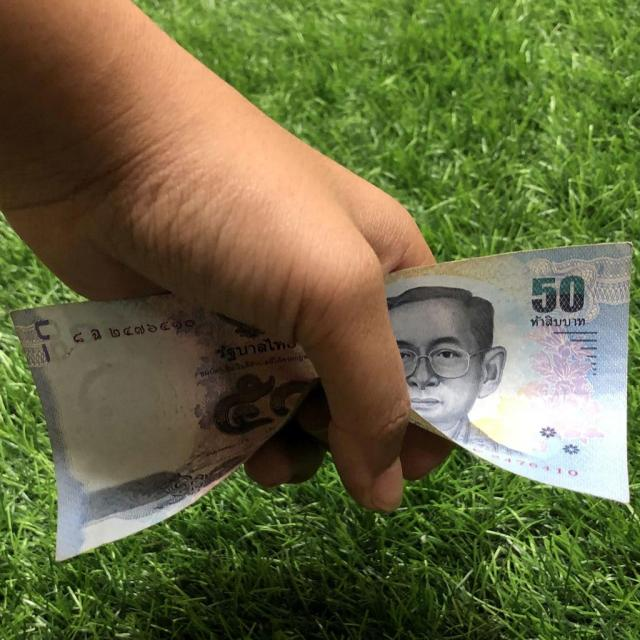THAI50: (11, 295, 322, 561), (386, 243, 631, 502)
